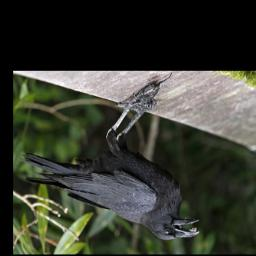Crow: (21, 92, 200, 241)
